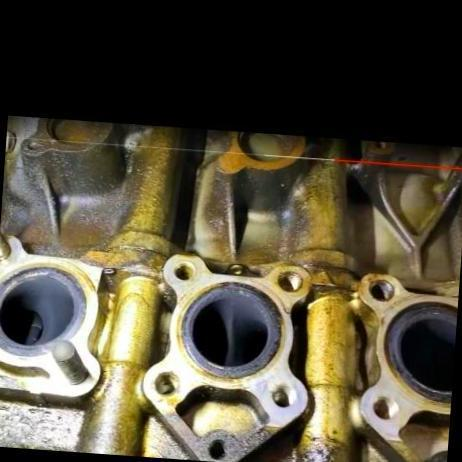hole: (270, 381, 298, 411), (153, 369, 181, 399), (371, 394, 400, 422), (367, 276, 396, 304), (276, 270, 304, 293), (172, 260, 196, 282)
